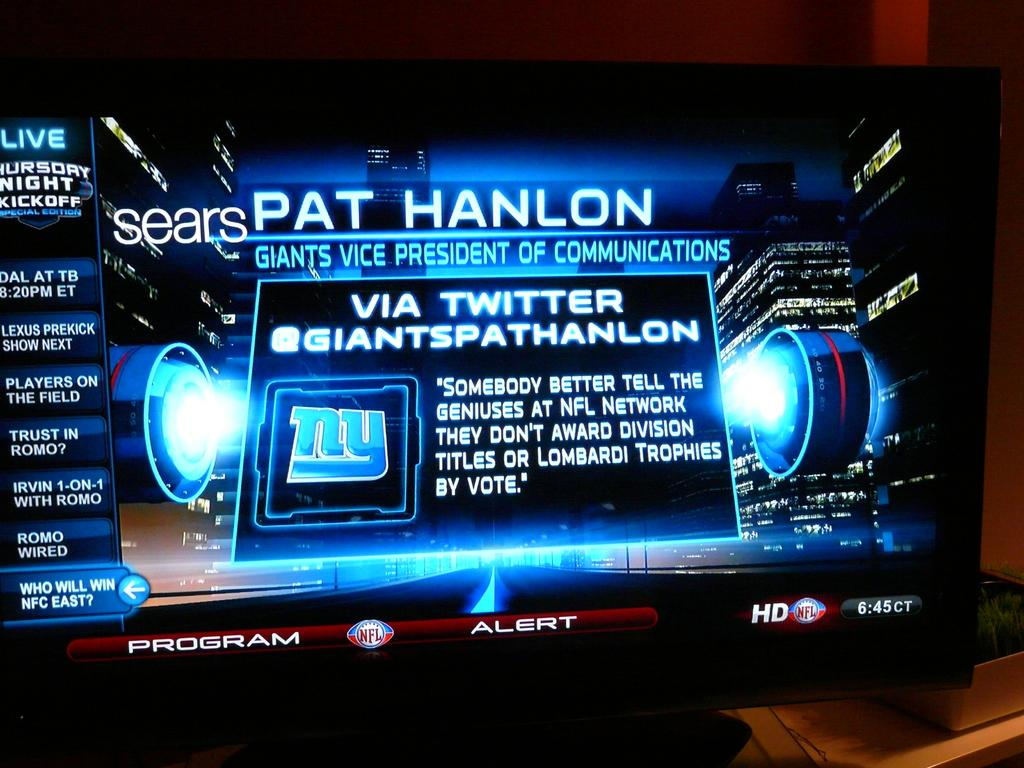Laptop: (0, 56, 1002, 764)
